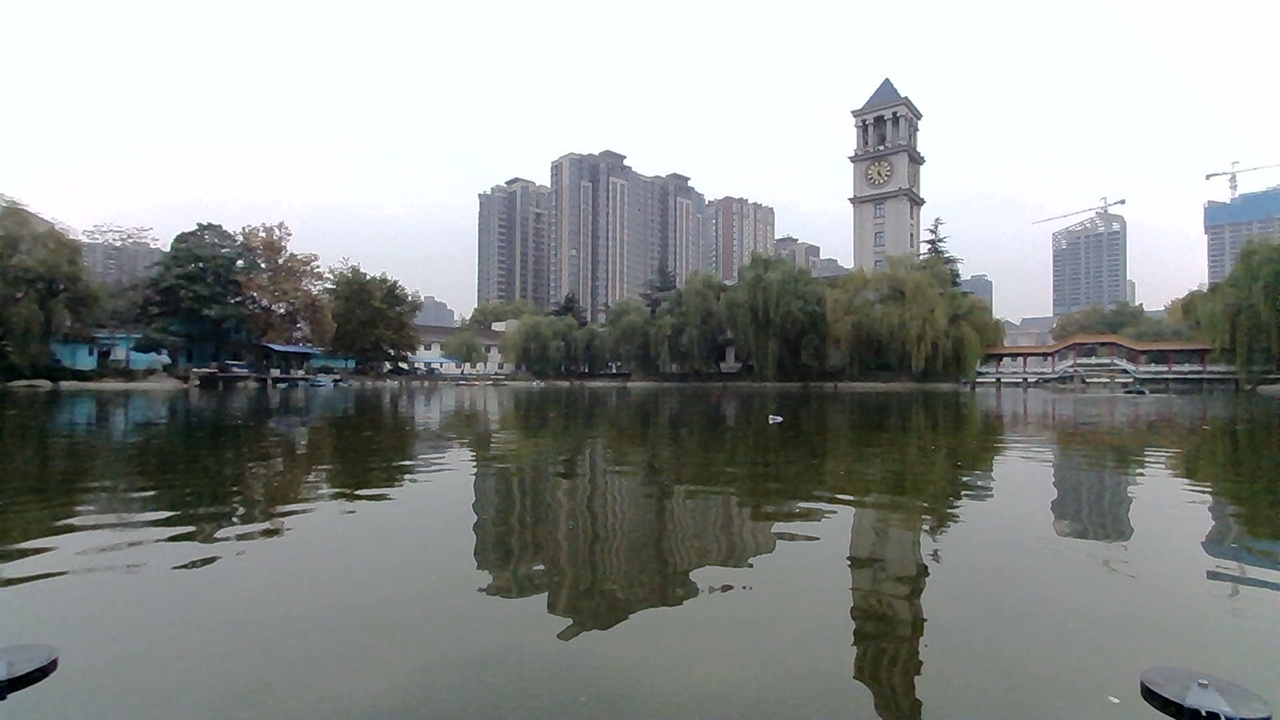bottle: (746, 402, 785, 432)
